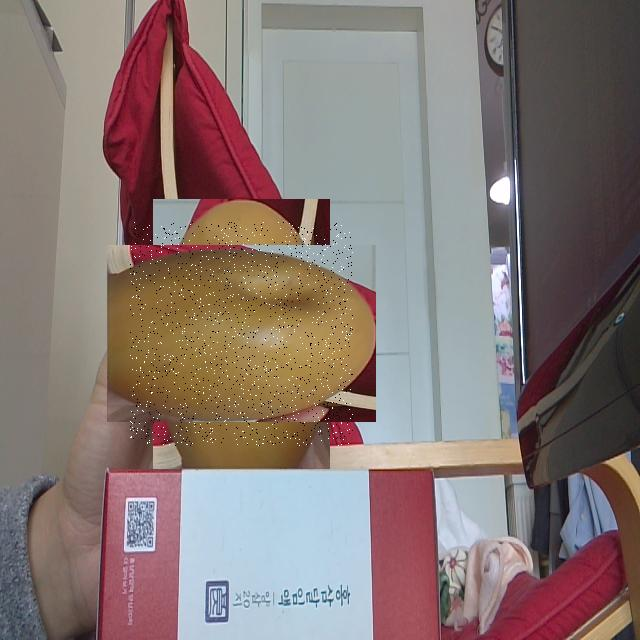pear: (130, 222, 353, 446)
